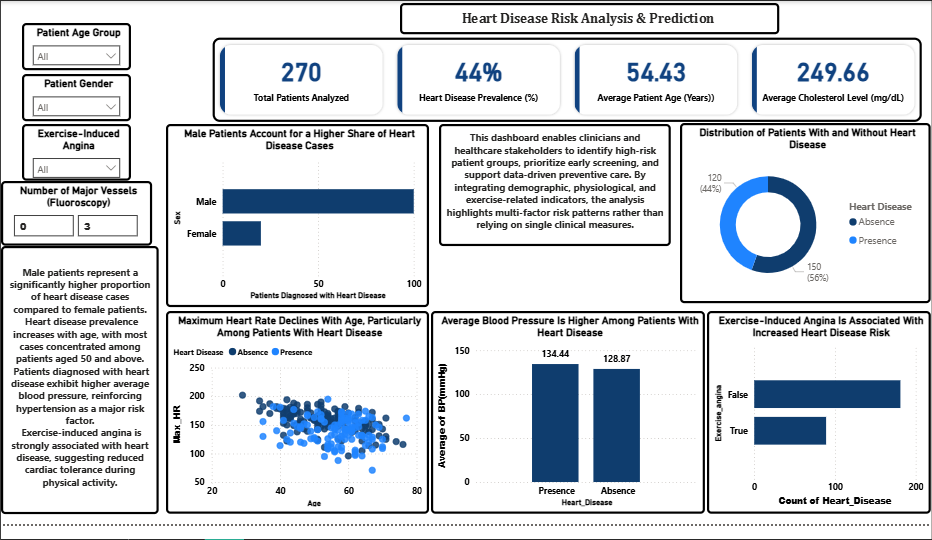

The page's visual inventory and layout, read from the dashboard file:
{"tool":"powerbi","page":{"name":"Page 1","canvas":[1280,720],"ordinal":0},"visuals":[{"type":"cardVisual","fields":{"Data":["Heart_Disease.Total Patients","Heart_Disease.Heart Disease Rate (%)","Heart_Disease.Avg Age","Heart_Disease.Avg Cholesterol"]},"box":[286.3,45.4,986.8,126.6],"z":0},{"type":"donutChart","title":"Distribution of Patients With and Without Heart Disease","fields":{"Category":["Heart_Disease.Heart_Disease"],"Y":["CountNonNull(Heart_Disease.Heart_Disease)"]},"box":[934.5,167.9,345.5,247.7],"z":1000},{"type":"barChart","title":"Male Patients Account for a Higher Share of Heart Disease Cases","fields":{"Category":["Heart_Disease.Sex"],"Y":["Heart_Disease.No of Patients with Heart Disease"]},"box":[227.1,169.3,362,251.9],"z":2000},{"type":"scatterChart","title":"Maximum Heart Rate Declines With Age, Particularly Among Patients With Heart Disease","fields":{"Y":["Heart_Disease.Max_HR"],"X":["Heart_Disease.Age"],"Series":["Heart_Disease.Heart_Disease"]},"box":[227.1,426.7,362,279.4],"z":3000},{"type":"columnChart","title":"Average Blood Pressure Is Higher Among Patients With Heart Disease","fields":{"Y":["Avg(Heart_Disease.BP)"],"Category":["Heart_Disease.Heart_Disease"]},"box":[591.8,426.7,377.1,279.4],"z":4000},{"type":"barChart","title":"Exercise-Induced Angina Is Associated With Increased Heart Disease Risk","fields":{"Category":["Heart_Disease.Exercise_angina"],"Y":["CountNonNull(Heart_Disease.Heart_Disease)"]},"box":[971.7,426.7,308.3,279.4],"z":5000},{"type":"slicer","title":"Patient Age Group","fields":{"Values":["Heart_Disease.Age Group"]},"box":[28.9,30.3,150,64.7],"z":6000},{"type":"slicer","title":"Patient Gender","fields":{"Values":["Heart_Disease.Sex"]},"box":[28.9,100.5,150,64.7],"z":7000},{"type":"slicer","title":"Exercise-Induced Angina","fields":{"Values":["Heart_Disease.Exercise_angina"]},"box":[28.9,169.3,150,78.5],"z":8000},{"type":"slicer","title":"Number of Major Vessels (Fluoroscopy)","fields":{"Values":["Heart_Disease.Number_of_vessels_fluro"]},"box":[0,247.7,207.8,89.5],"z":9000},{"type":"textbox","box":[602.8,207.8,319.3,167.9],"z":10000},{"type":"textbox","box":[0,337.2,217.5,368.9],"z":11000},{"type":"textbox","box":[549.2,2.8,521.6,42.7],"z":11001}]}

Visuals, with their boxes in screenshot pixels (x1, y1, x2, y2), scaled from the page's 1280x720 canvas onto the 932x540 screenshot:
cardVisual - Heart_Disease.Total Patients x Heart_Disease.Heart Disease Rate (%): pyautogui.locateOnScreen(208, 34, 927, 129)
"Distribution of Patients With and Without Heart Disease" donutChart: pyautogui.locateOnScreen(680, 126, 931, 312)
"Male Patients Account for a Higher Share of Heart Disease Cases" barChart: pyautogui.locateOnScreen(165, 127, 429, 316)
"Maximum Heart Rate Declines With Age, Particularly Among Patients With Heart Disease" scatterChart: pyautogui.locateOnScreen(165, 320, 429, 530)
"Average Blood Pressure Is Higher Among Patients With Heart Disease" columnChart: pyautogui.locateOnScreen(431, 320, 705, 530)
"Exercise-Induced Angina Is Associated With Increased Heart Disease Risk" barChart: pyautogui.locateOnScreen(708, 320, 931, 530)
"Patient Age Group" slicer: pyautogui.locateOnScreen(21, 23, 130, 71)
"Patient Gender" slicer: pyautogui.locateOnScreen(21, 75, 130, 124)
"Exercise-Induced Angina" slicer: pyautogui.locateOnScreen(21, 127, 130, 186)
"Number of Major Vessels (Fluoroscopy)" slicer: pyautogui.locateOnScreen(0, 186, 151, 253)
textbox: pyautogui.locateOnScreen(439, 156, 671, 282)
textbox: pyautogui.locateOnScreen(0, 253, 158, 530)
textbox: pyautogui.locateOnScreen(400, 2, 780, 34)
